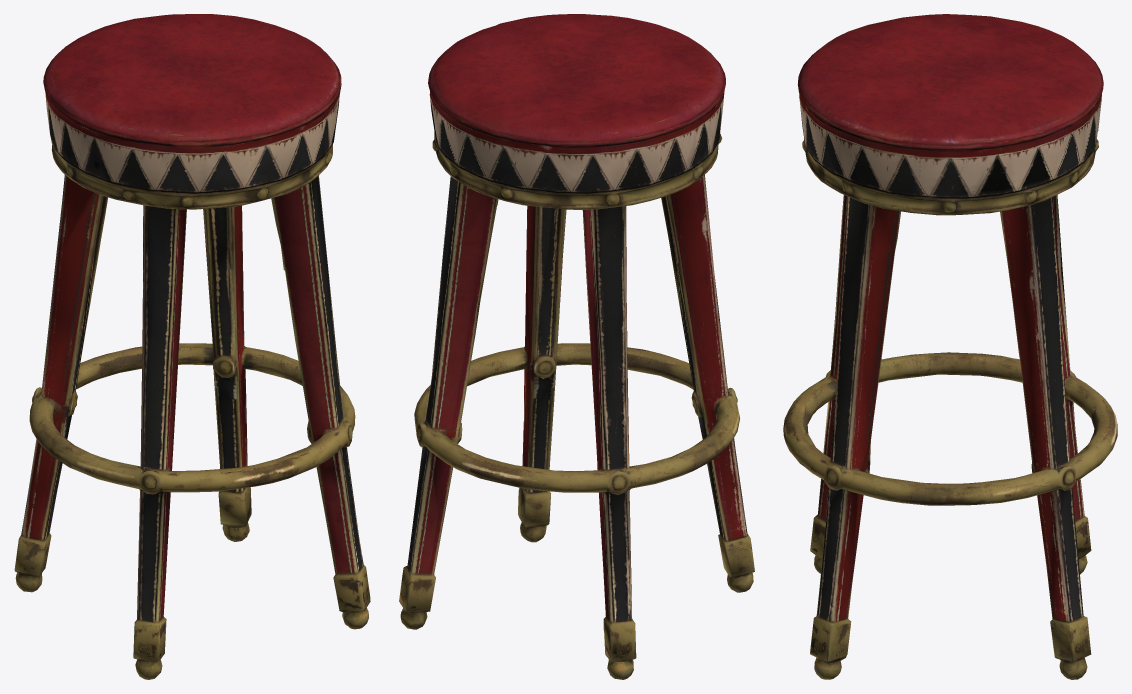
File: Meshy_AI_Red_and_Black_Geometr_0626174738_texture.fbx
3 views of the same model, side by side, from view 1: azimuth 30°, elevation 25°; view 2: azimuth 150°, elevation 25°; view 3: azimuth 270°, elevation 25° (orthographic). The views are drawn at different scales.
Parts seen in each view (by area): view 1: Mesh1.0; view 2: Mesh1.0; view 3: Mesh1.0.
Boxes of the visible parts, x1,y1,x2,y2 form: Mesh1.0: (14,14,370,679); Mesh1.0: (399,14,754,679); Mesh1.0: (783,14,1117,679).
Bounding box in the file's own units: 105 × 192 × 105.
Materials: 1 (1 with a texture image).
